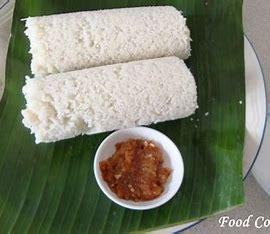Pittu: (18, 6, 215, 129)
